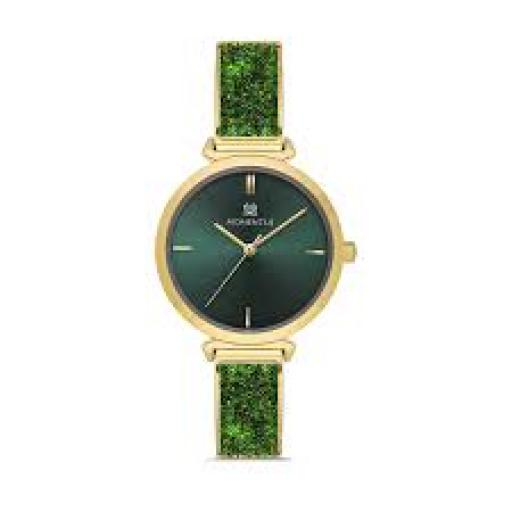KolSaati: (150, 29, 362, 478)
